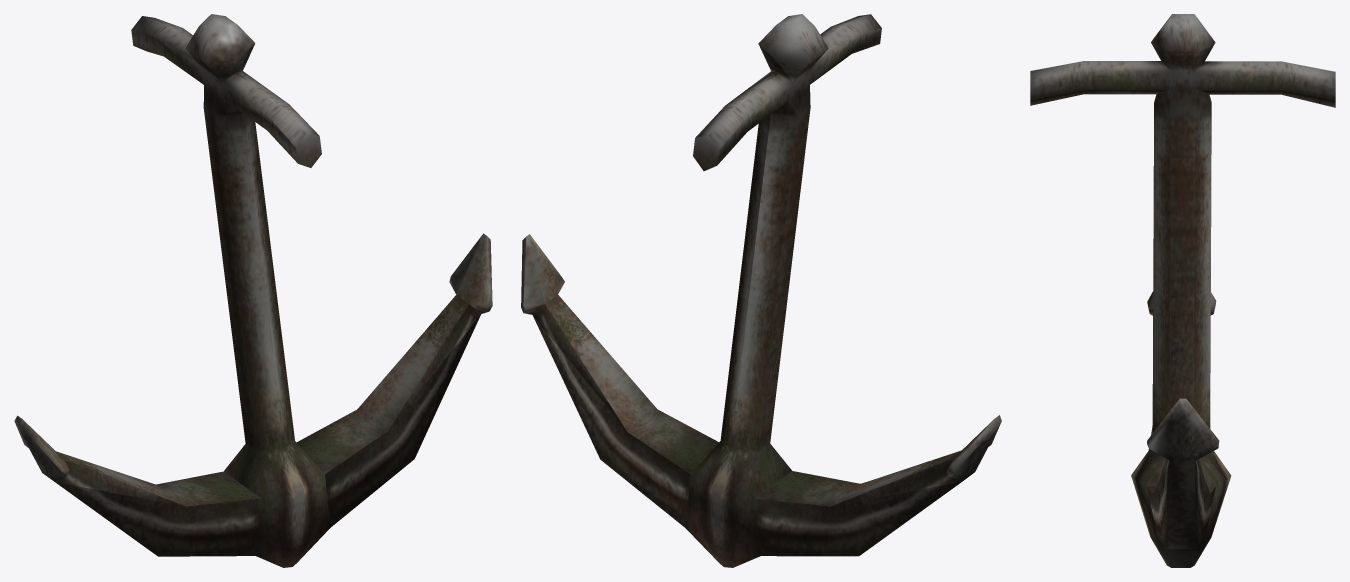
Rendered from anchor.fbx.
3 views of the same model, side by side, from view 1: azimuth 30°, elevation 25°; view 2: azimuth 150°, elevation 25°; view 3: azimuth 270°, elevation 25° (orthographic). The views are drawn at different scales.
Parts seen in each view (by area): view 1: lod_high; view 2: lod_high; view 3: lod_high.
Part boxes in pixels (x1,y1,x2,y2): lod_high: (14, 14, 492, 567); lod_high: (521, 14, 1001, 567); lod_high: (1030, 14, 1335, 567).
Bounding box in the file's own units: 1583 × 1789 × 949.
1 material, 1 textured.
